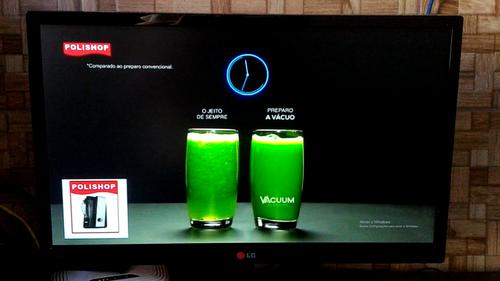Polishop #1: (62, 178, 128, 238)
